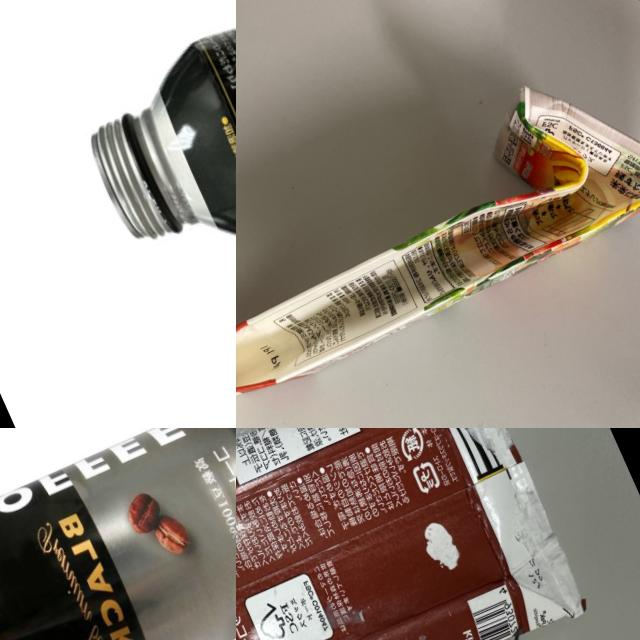Aluminium Foil: (236, 45, 640, 428), (236, 428, 592, 640)
Can: (49, 0, 236, 311), (0, 428, 236, 640)
